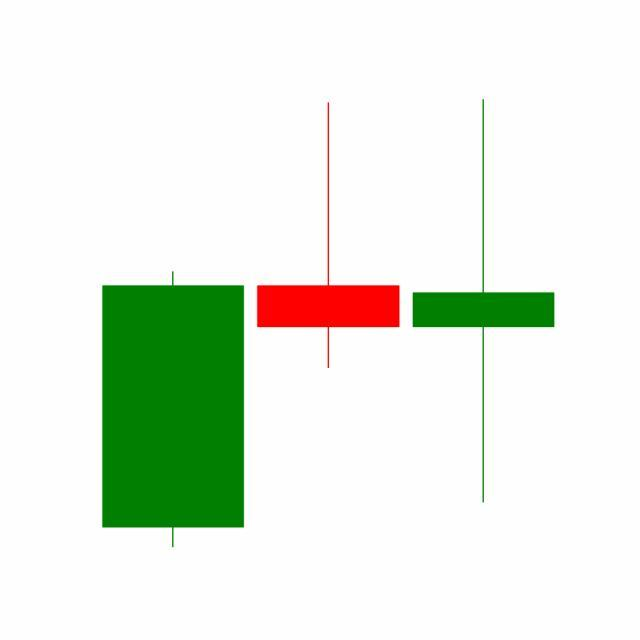Spinning Top: (406, 96, 562, 508)
